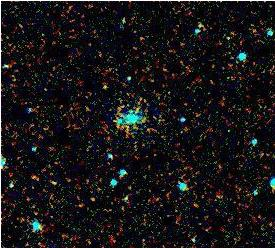star: (90, 72, 120, 102)
